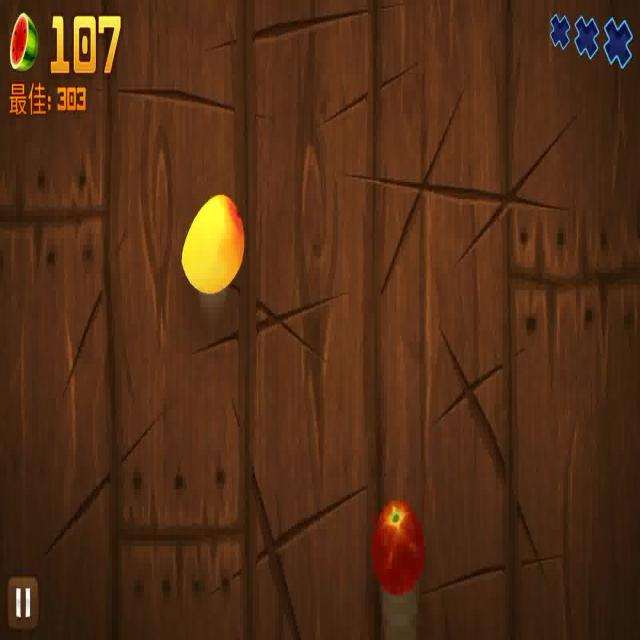fruit: (180, 194, 243, 290), (373, 498, 427, 596)
